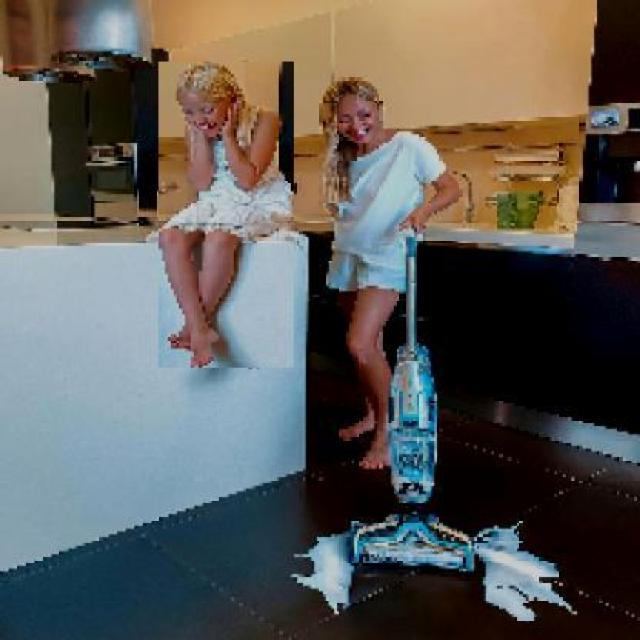child: (157, 62, 294, 369)
